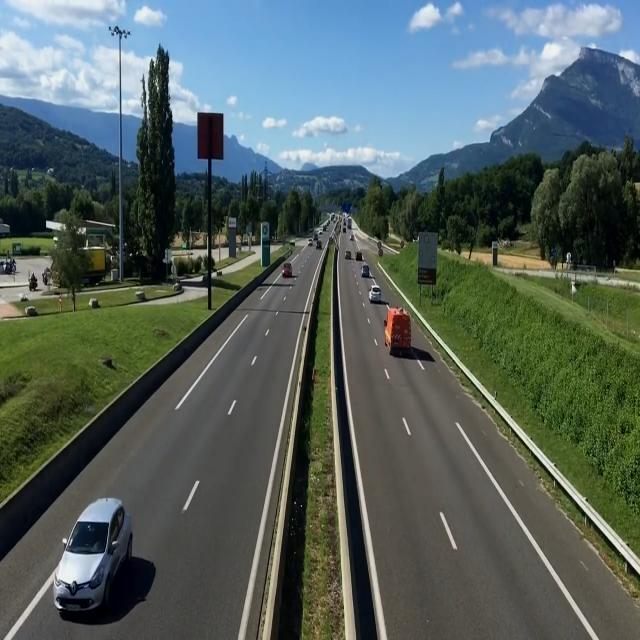Car: (52, 498, 134, 615), (368, 284, 383, 302), (282, 261, 294, 279), (360, 264, 371, 277)
Truck: (382, 308, 412, 352)
